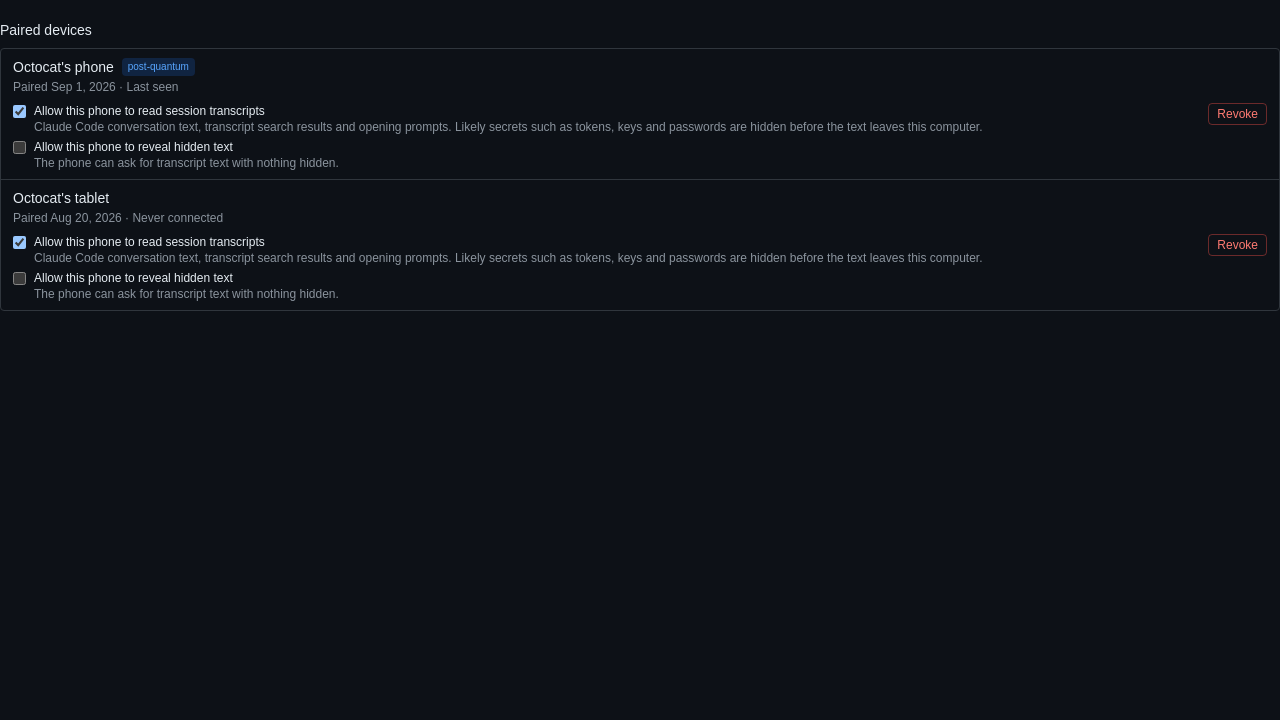
it: PairedDevicesList › revoke › asks first, naming the device, and does nothing on Cancel
This screenshot has width=1280, height=720.
What coordinates should you click on to do the following:
click the button with aria-label "Revoke Octocat's phone"
I would click on:
 (1238, 114)
Its box is x1=1208 y1=103 x2=1267 y2=125.
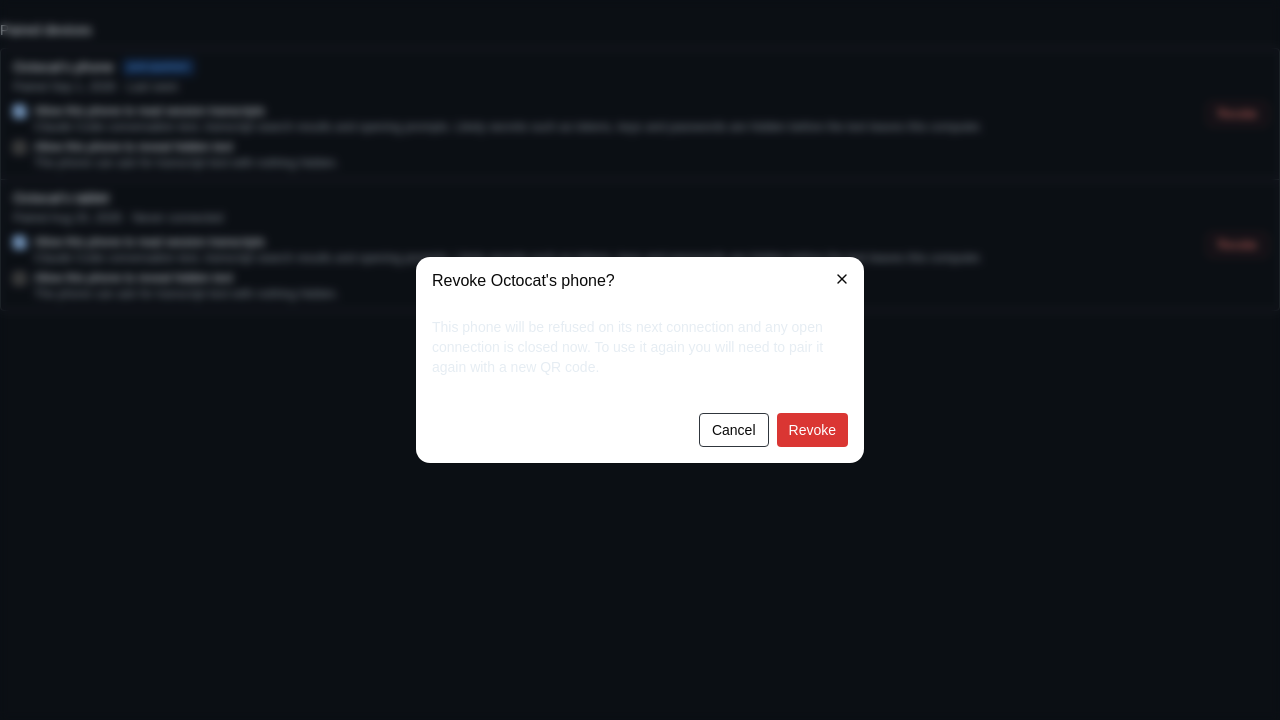
expect the dialog shows "Revoke Octocat's phone?": met, box x1=416 y1=257 x2=864 y2=463
What coordinates should you click on to do the following:
click the button "Cancel"
I would click on:
 (734, 430)
Its box is x1=699 y1=413 x2=768 y2=447.
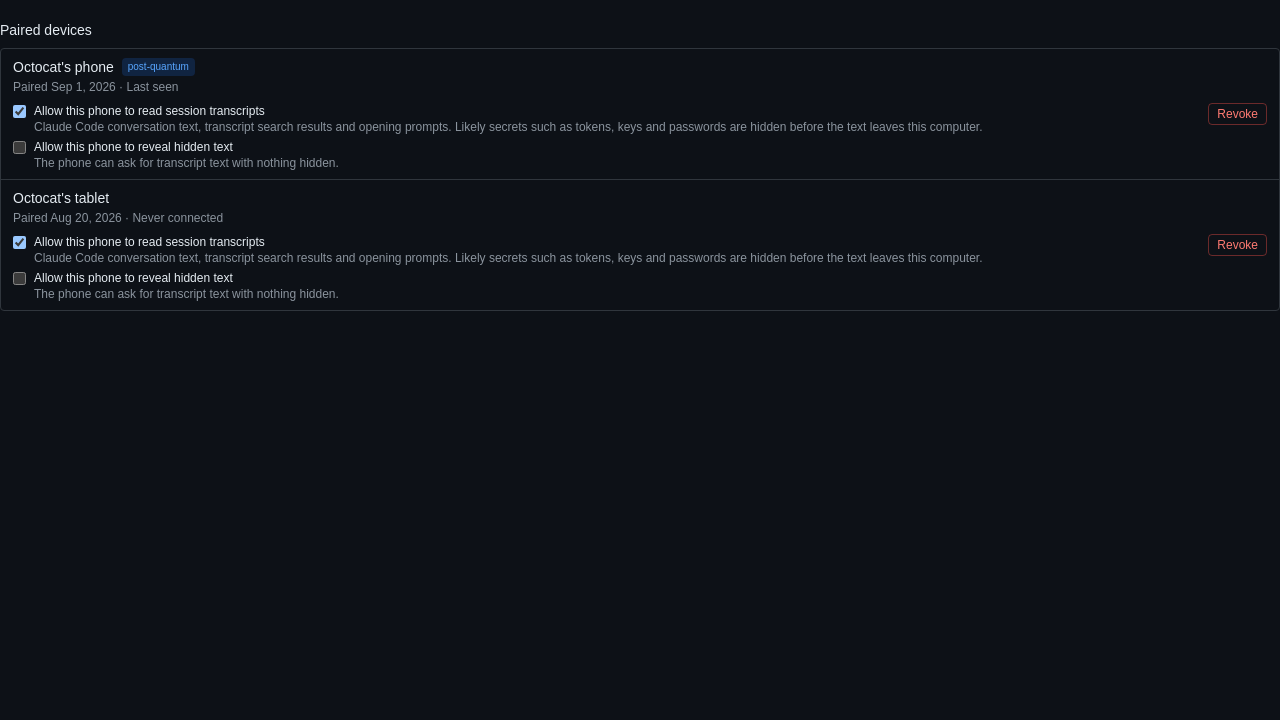
expect the dialog is gone: met
